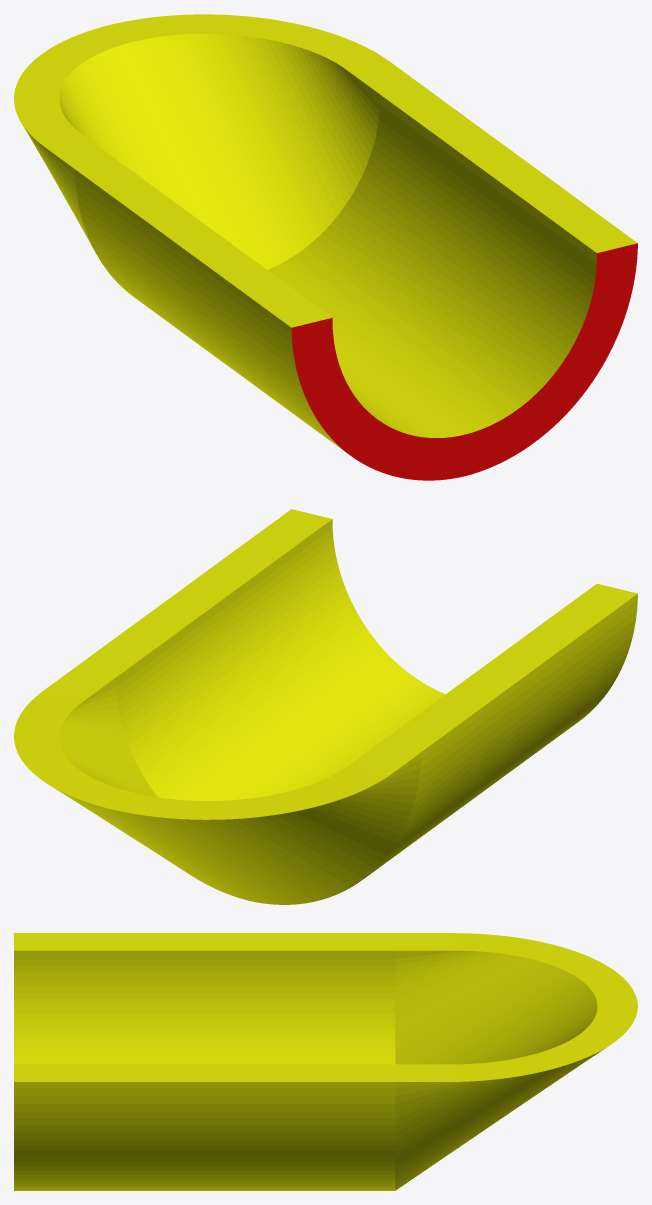
The model's file is SM_WaterShape_Gutter_001.fbx.
3 renders of one model, top to bottom at view 1: azimuth 30°, elevation 25°; view 2: azimuth 150°, elevation 25°; view 3: azimuth 270°, elevation 25°, orthographic. The views are drawn at different scales.
Visible parts, largest first — view 1: Cube.011; view 2: Cube.011; view 3: Cube.011.
Boxes of the visible parts, left/top/right/bottom form: Cube.011: left=14, top=14, right=637, bottom=480; Cube.011: left=14, top=509, right=637, bottom=904; Cube.011: left=14, top=933, right=637, bottom=1190.
Size of the model in its own units: 413 by 219 by 732.
